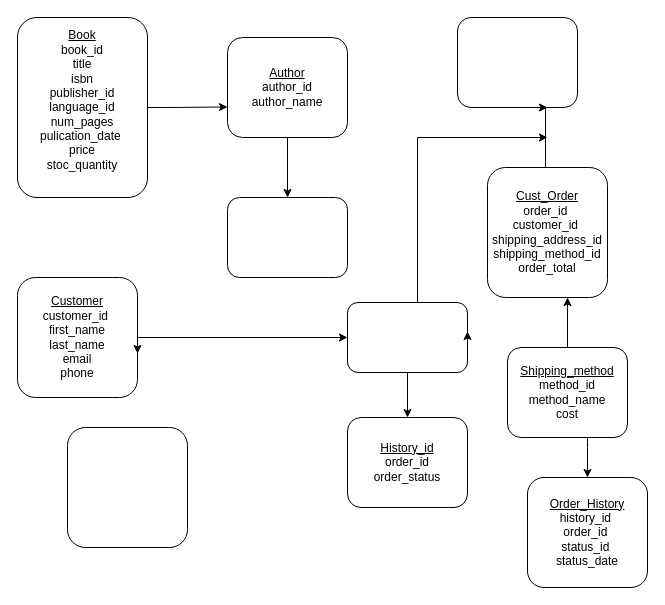
Image size: 665x605. Some labels were removed from this diagram. The box of each missing label's shape, as (x1, y1, x2, y2) in pixels:
Address address_id street_number street_name city country_id postal_code: (66, 426, 188, 548)
Book_Autho r book_id author_id: (226, 196, 348, 278)
Book_language language_id language_code: (456, 16, 578, 108)
Customer Address order_id status_id: (346, 302, 468, 372)
